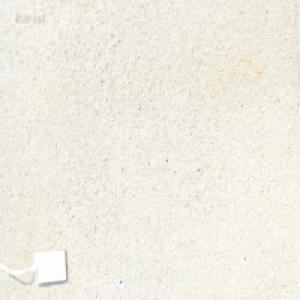LuggageTag: (8, 244, 68, 286)
